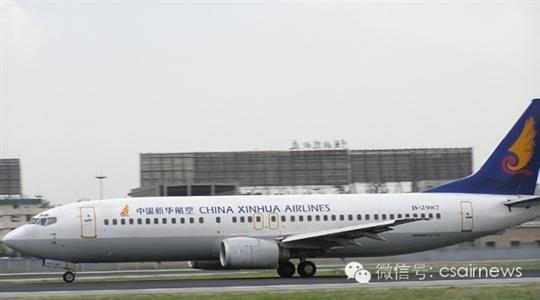airplane: (5, 98, 540, 284)
